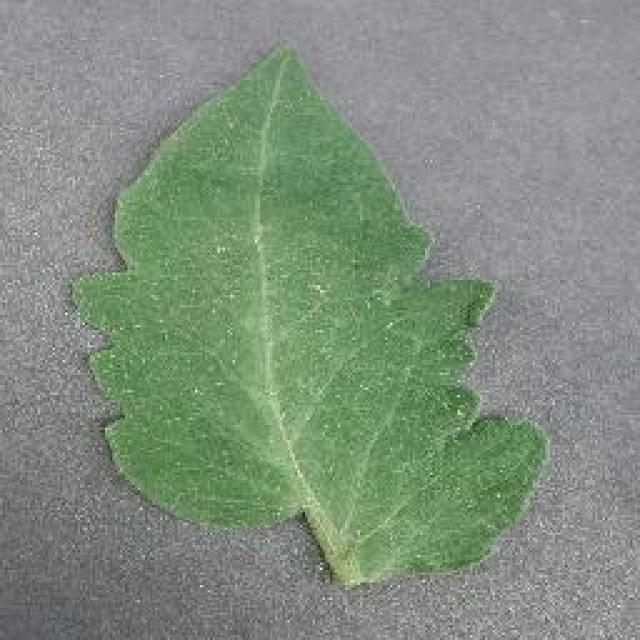Healthy: (55, 32, 553, 600)
